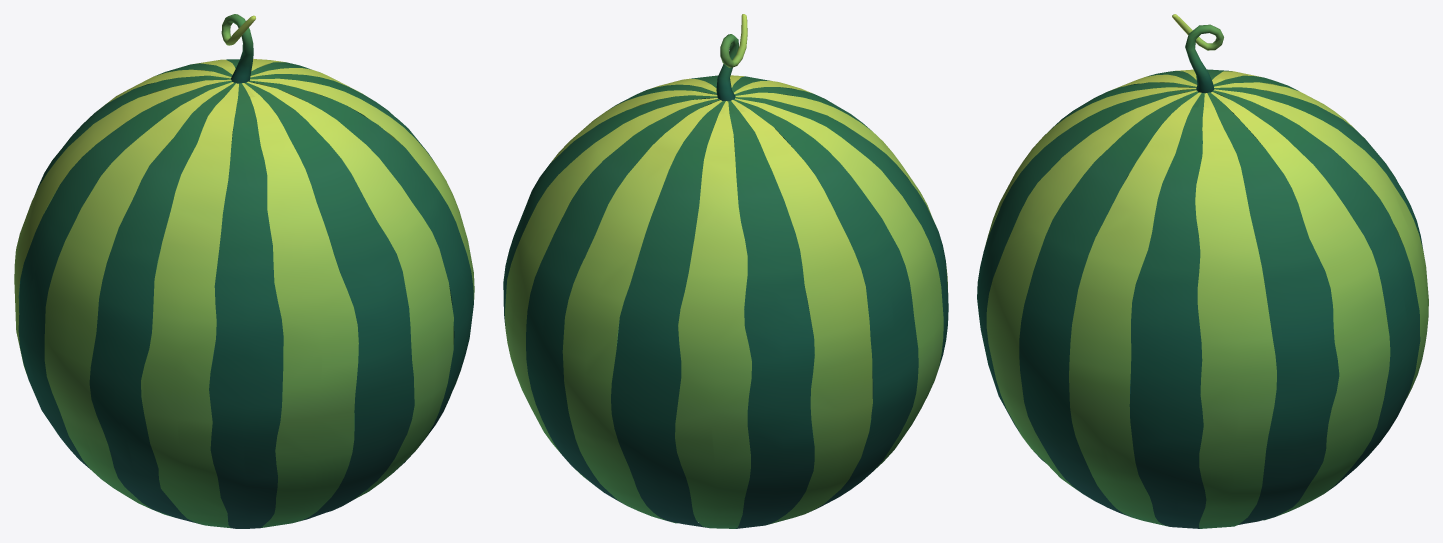
Rendered from watermelon.fbx.
3 renders of one model, left to right at view 1: azimuth 30°, elevation 25°; view 2: azimuth 150°, elevation 25°; view 3: azimuth 270°, elevation 25°, orthographic. The views are drawn at different scales.
Visible parts, largest first — view 1: Sphere.002_Color_Pallete_0.001; view 2: Sphere.002_Color_Pallete_0.001; view 3: Sphere.002_Color_Pallete_0.001.
Part boxes in pixels (x1=…): Sphere.002_Color_Pallete_0.001: x1=14, y1=14, x2=474, y2=528; Sphere.002_Color_Pallete_0.001: x1=503, y1=14, x2=948, y2=528; Sphere.002_Color_Pallete_0.001: x1=977, y1=14, x2=1428, y2=528.
Size of the model in its own units: 184 by 222 by 185.
